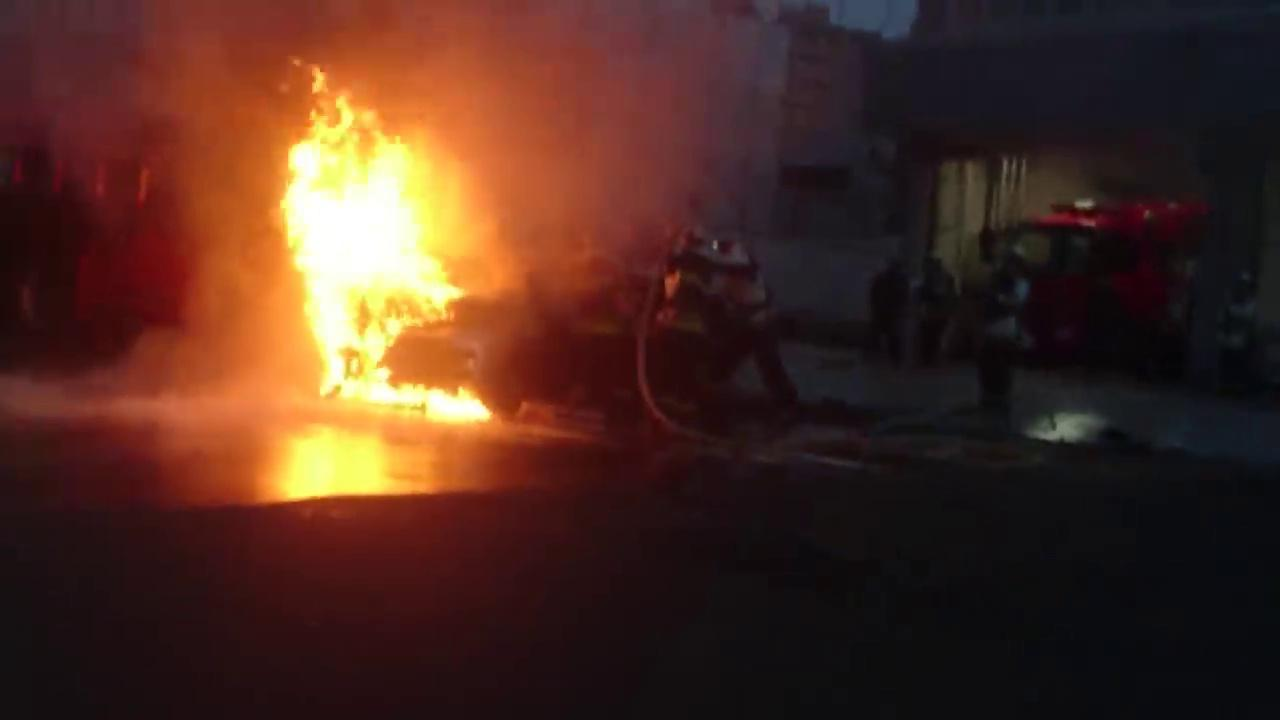Fire: (278, 58, 510, 427)
